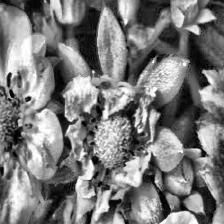Blossom Blight: (80, 99, 153, 194), (0, 69, 36, 178)
